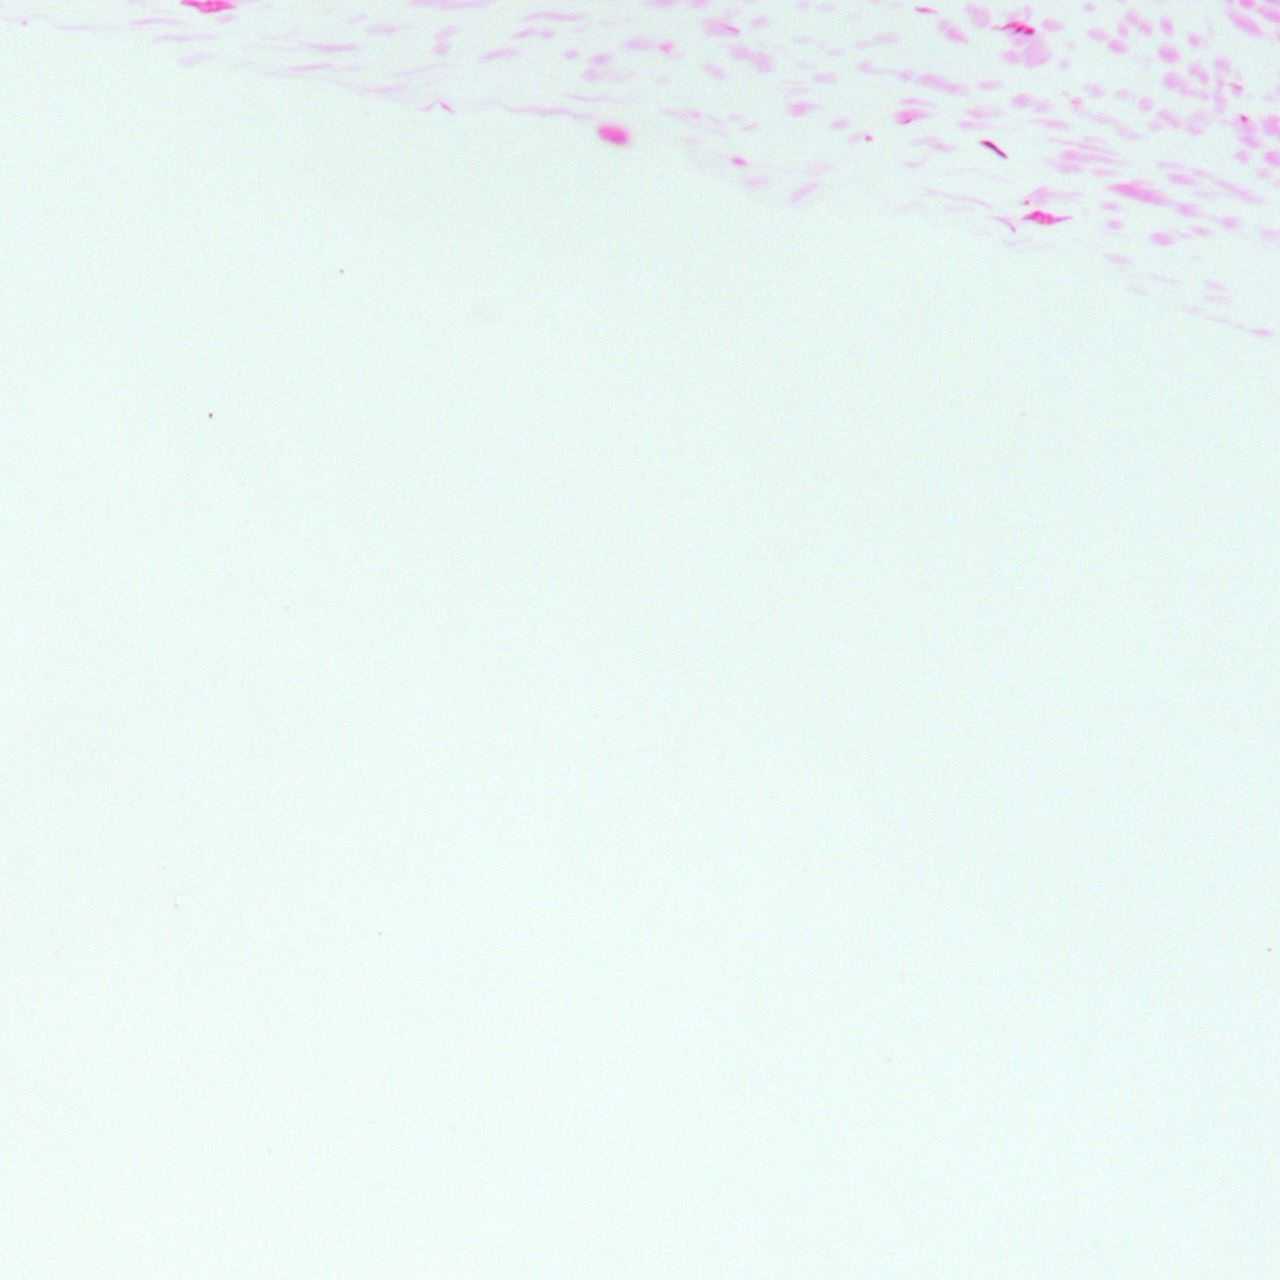dust: (207, 411, 214, 419), (338, 266, 344, 274)
nucleus-FG: (979, 136, 1010, 159), (1021, 210, 1061, 223), (1024, 25, 1036, 34), (1013, 25, 1023, 33), (862, 134, 872, 142), (1239, 114, 1248, 121), (902, 119, 912, 124)
